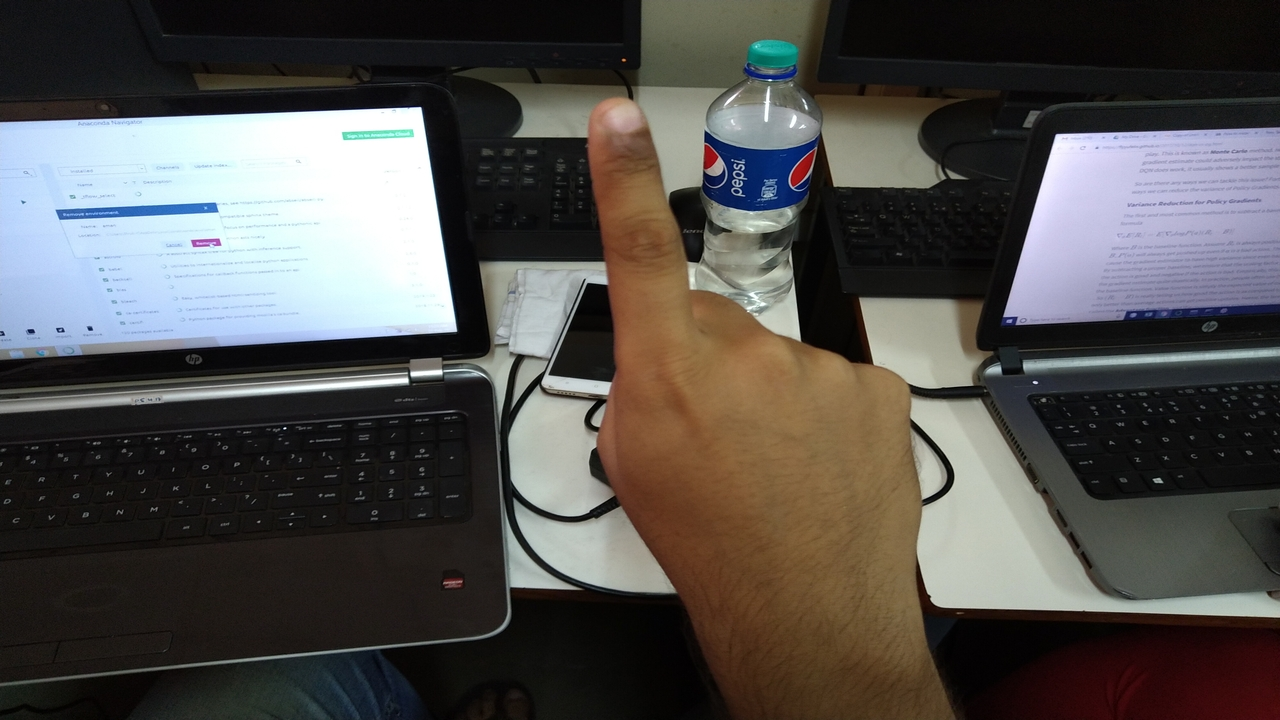fingertip: (588, 88, 656, 148)
